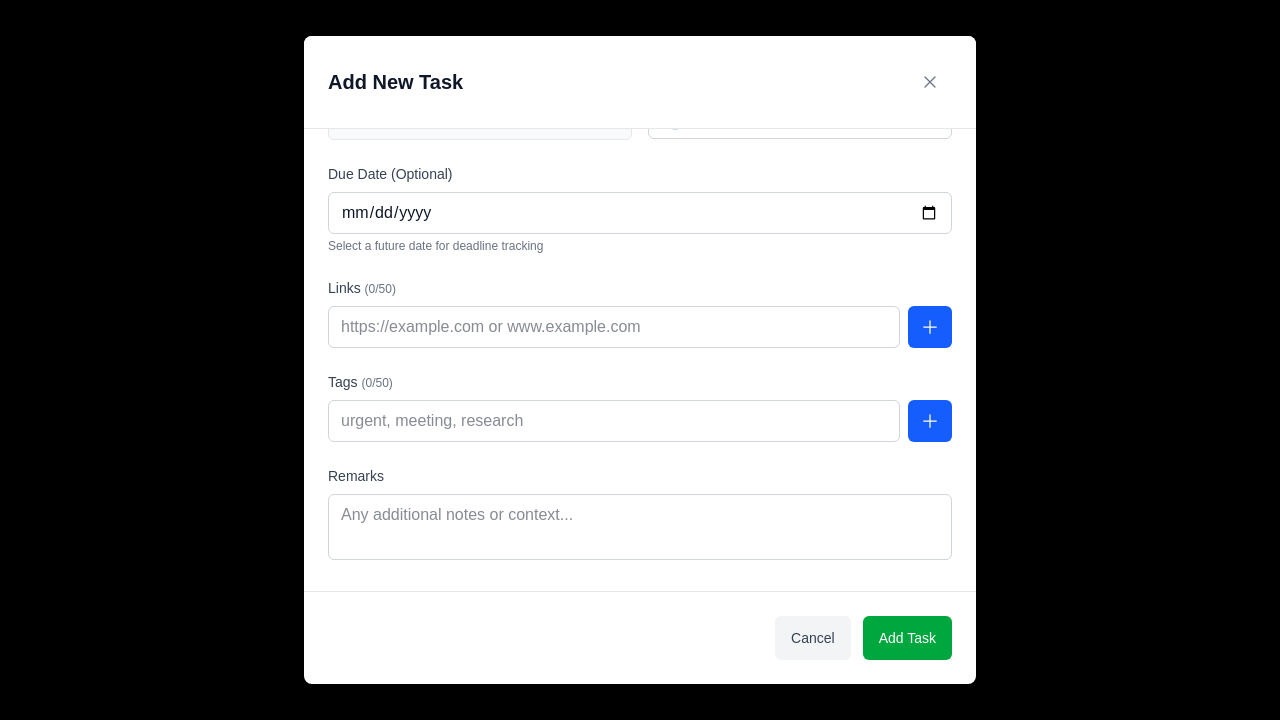
Scenario: AddTaskModal - Form Validation › Tag Management › prevents duplicate tags
(page scrolled)
Add first tag
In the field with placeholder "urgent, meeting, research": (614, 421) [328,400,900,442], type "duplicate"
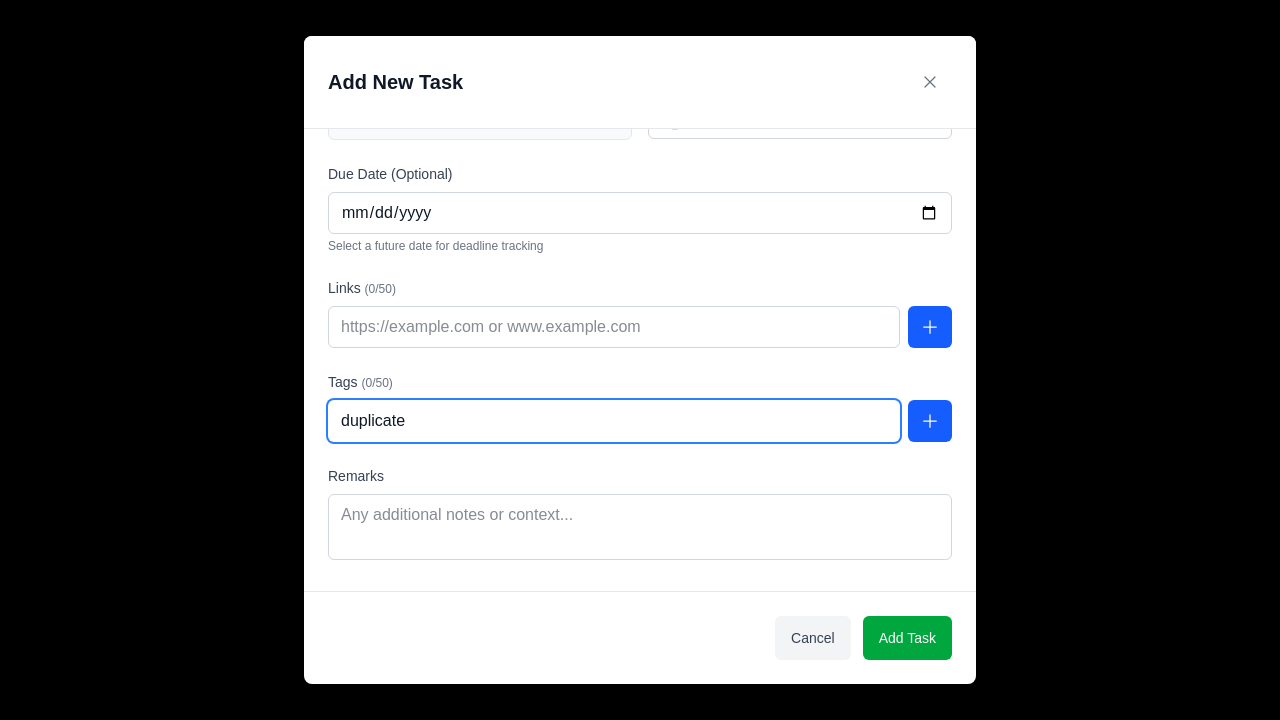
Click the button named "Add tag to task": (930, 421) [908,400,952,442]
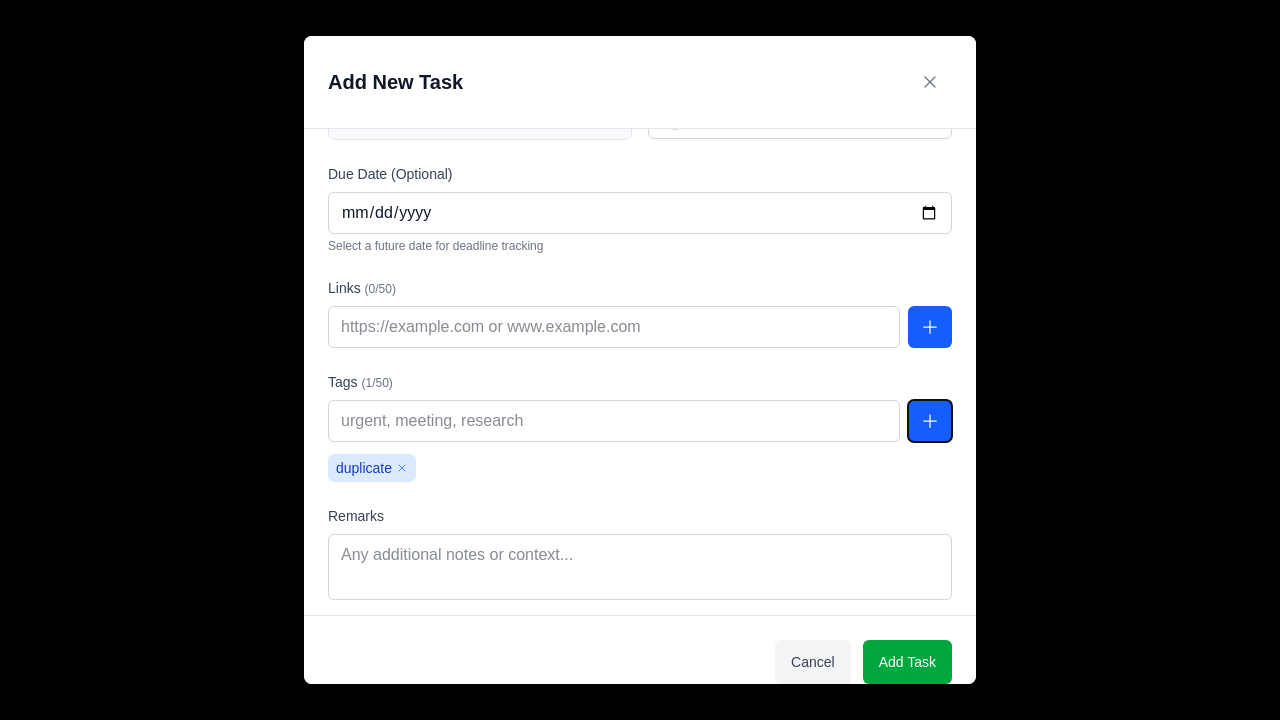
Try to add same tag
In the field with placeholder "urgent, meeting, research": (614, 421) [328,400,900,442], type "duplicate"
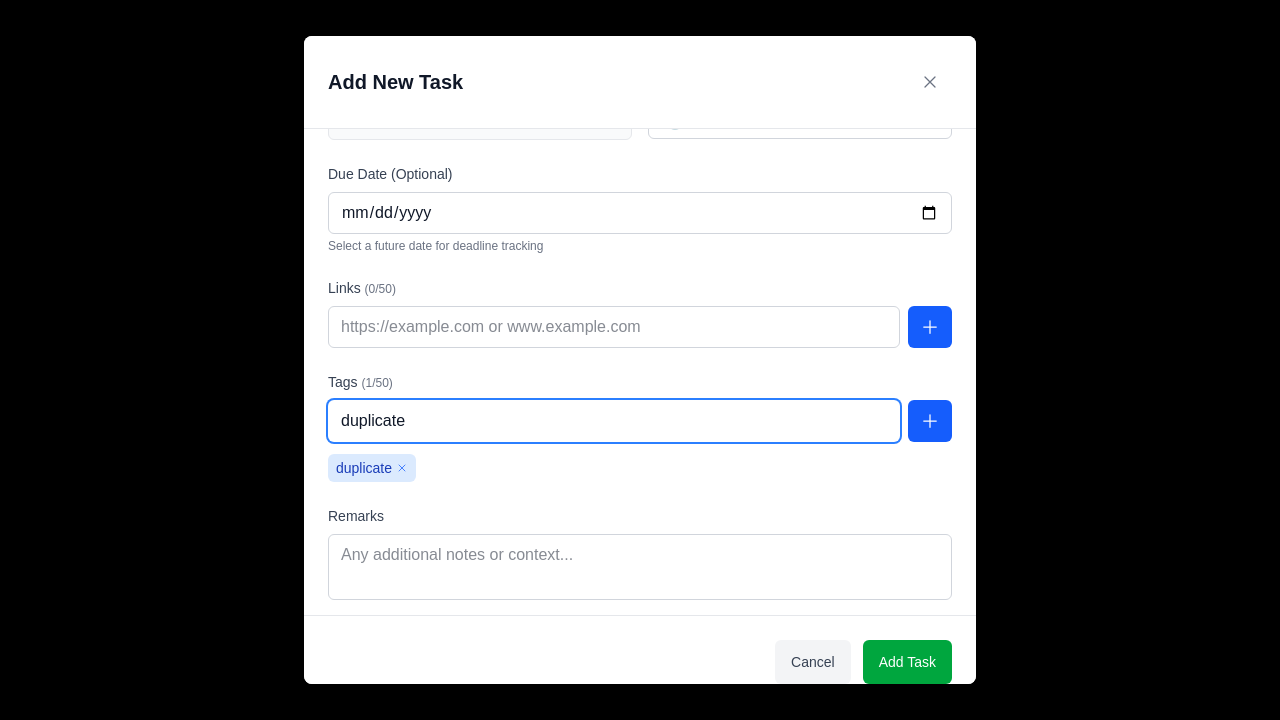
Click the button named "Add tag to task": (930, 421) [908,400,952,442]
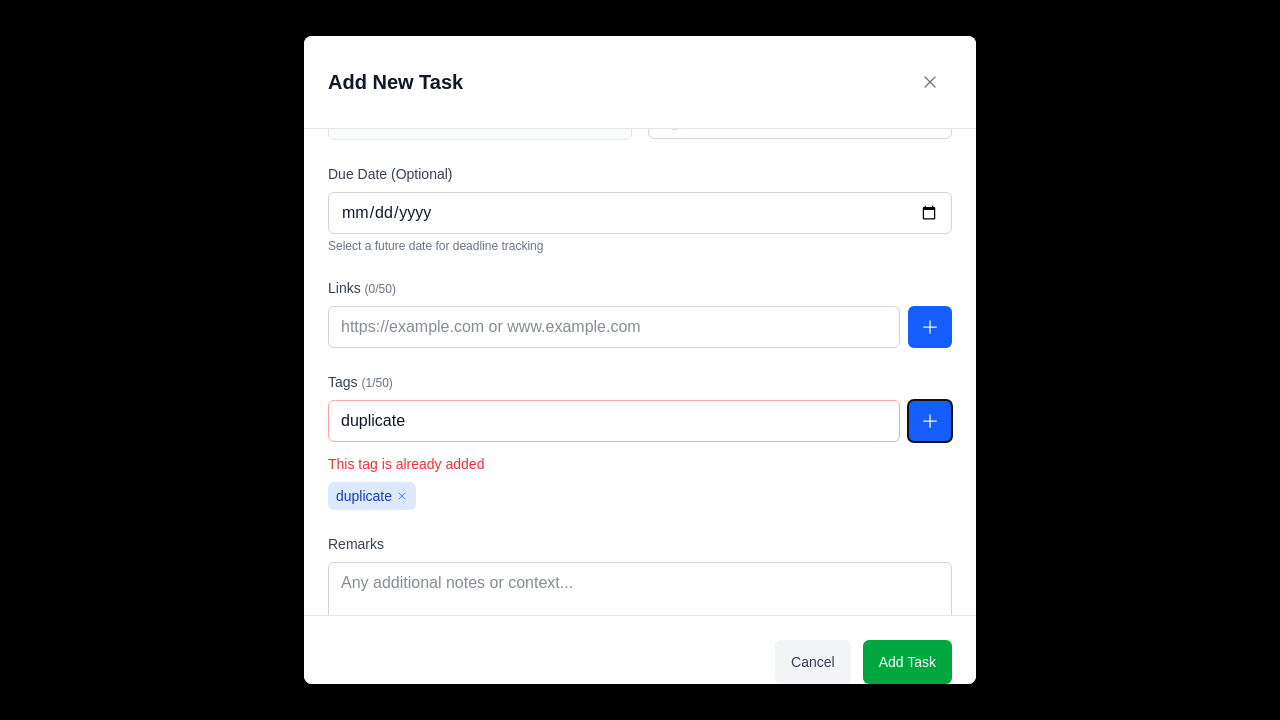
Expected: the text "This tag is already added" is shown, [328,456,484,472]
